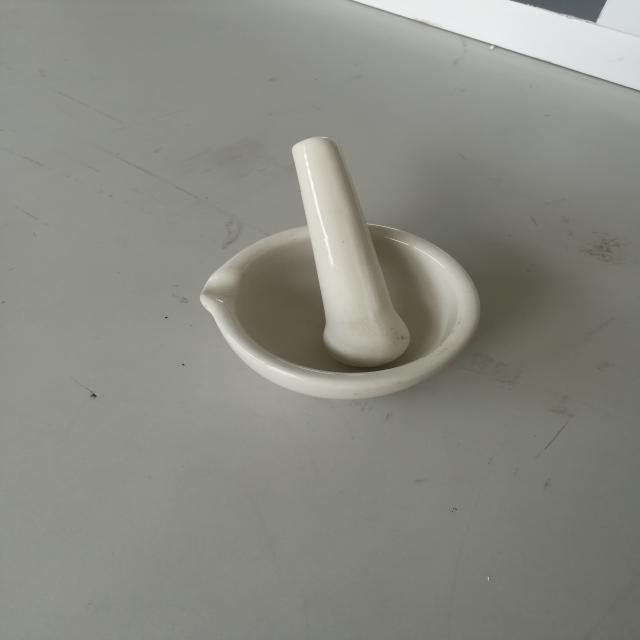Porcelain_Mortar Pestle: (142, 78, 511, 431)
